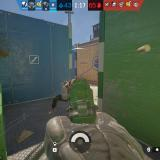Character: (48, 80, 72, 116)
